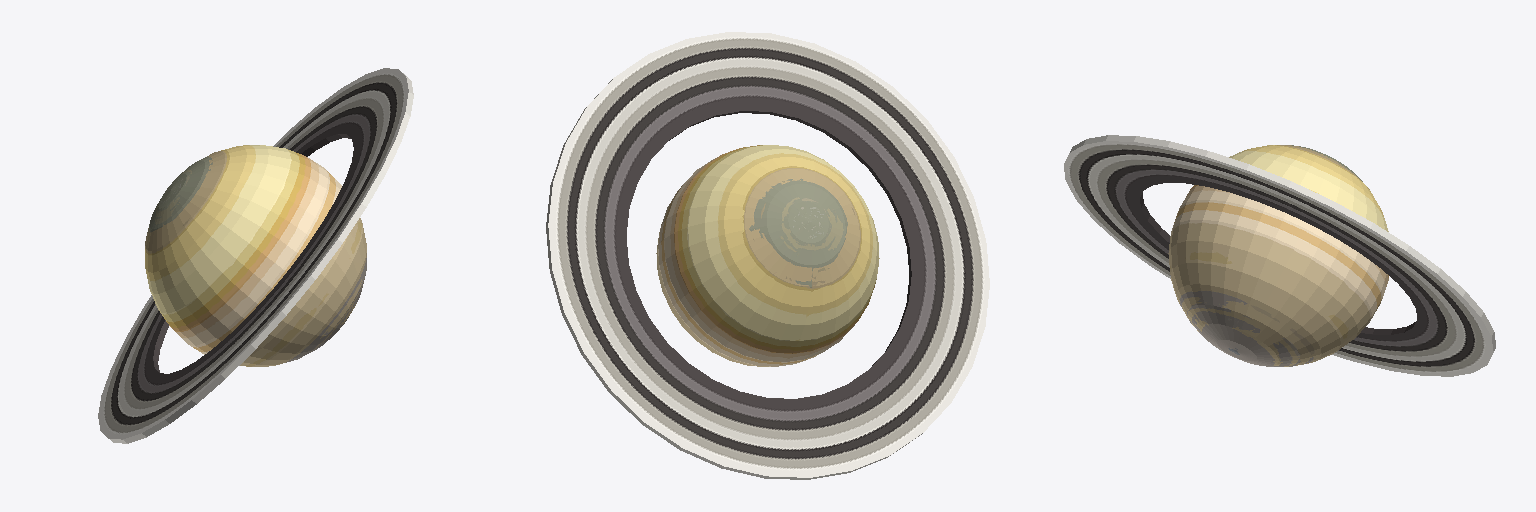
3 views of the same model, side by side, from view 1: azimuth 30°, elevation 25°; view 2: azimuth 150°, elevation 25°; view 3: azimuth 270°, elevation 25° (orthographic).
Visible parts, largest first — view 1: Saturn; view 2: Saturn; view 3: Saturn.
Boxes of the visible parts, box(x1,y1,x2,y2) form: Saturn: box(98, 68, 413, 443); Saturn: box(546, 32, 989, 479); Saturn: box(1064, 135, 1495, 376).
Size of the model in its own units: 2.01 by 1.96 by 2.37.
1 materials, 1 textured.